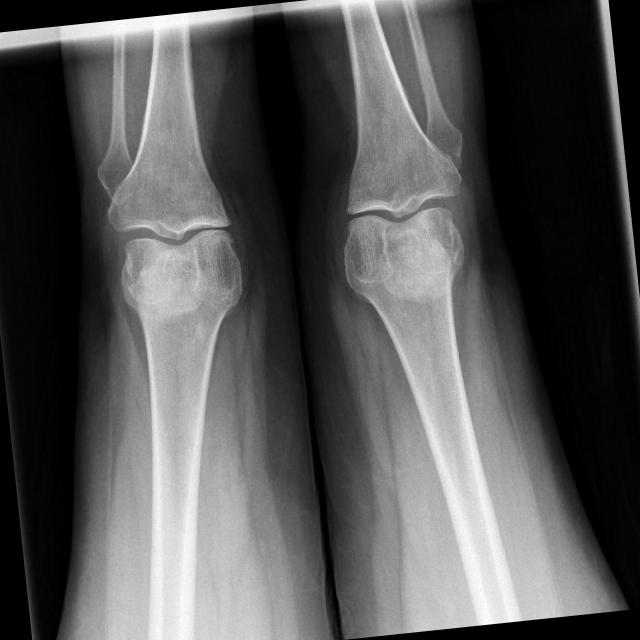Knee: (104, 163, 250, 315), (330, 144, 476, 287)
